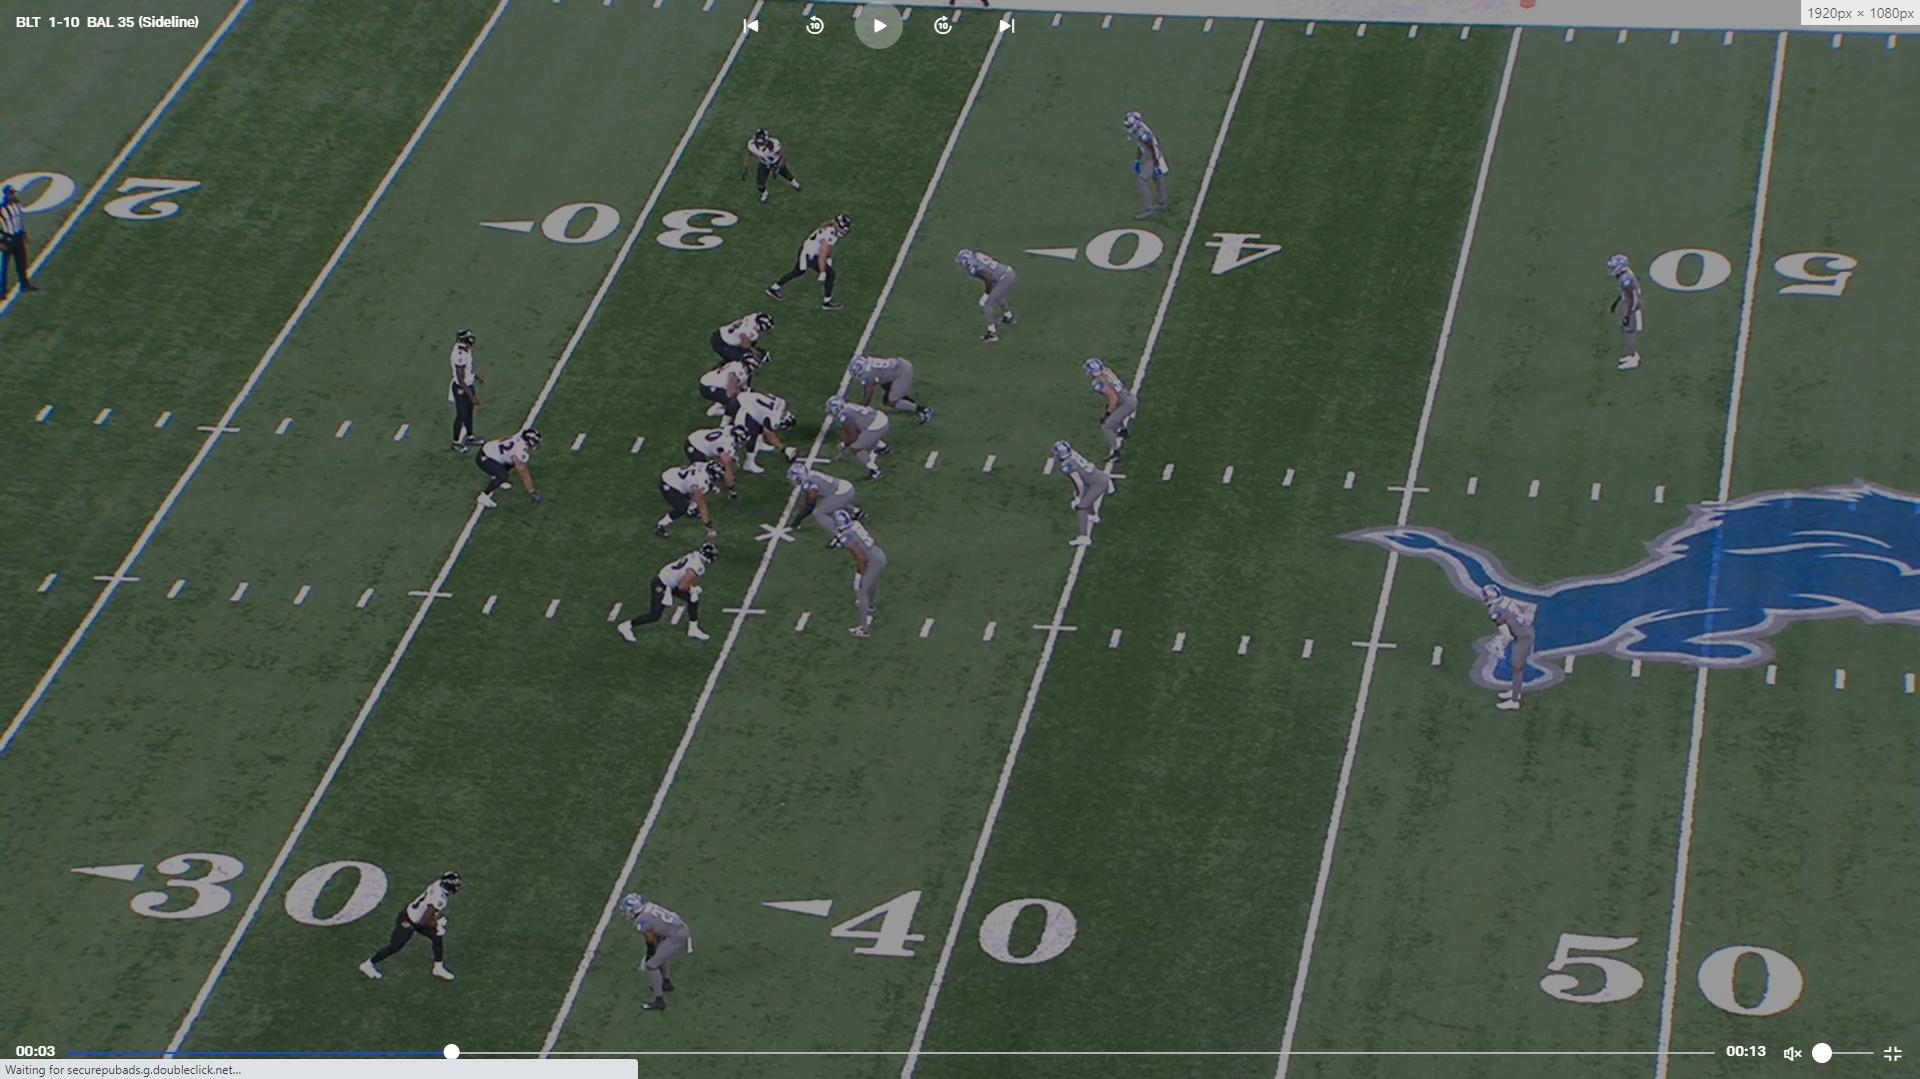player: (356, 865, 470, 988), (616, 542, 723, 652), (618, 888, 697, 1016), (767, 213, 859, 317), (772, 455, 869, 548), (827, 505, 891, 642), (1478, 580, 1535, 717), (1048, 434, 1113, 550), (470, 430, 552, 514), (847, 348, 936, 425), (954, 243, 1021, 345), (1081, 356, 1135, 477), (821, 395, 894, 483), (722, 389, 797, 474), (1602, 248, 1649, 379), (1123, 109, 1175, 226), (651, 458, 724, 541), (444, 320, 488, 453), (679, 424, 748, 507), (739, 126, 805, 209), (699, 352, 773, 423), (710, 307, 780, 370)
ref: (0, 181, 41, 305)
